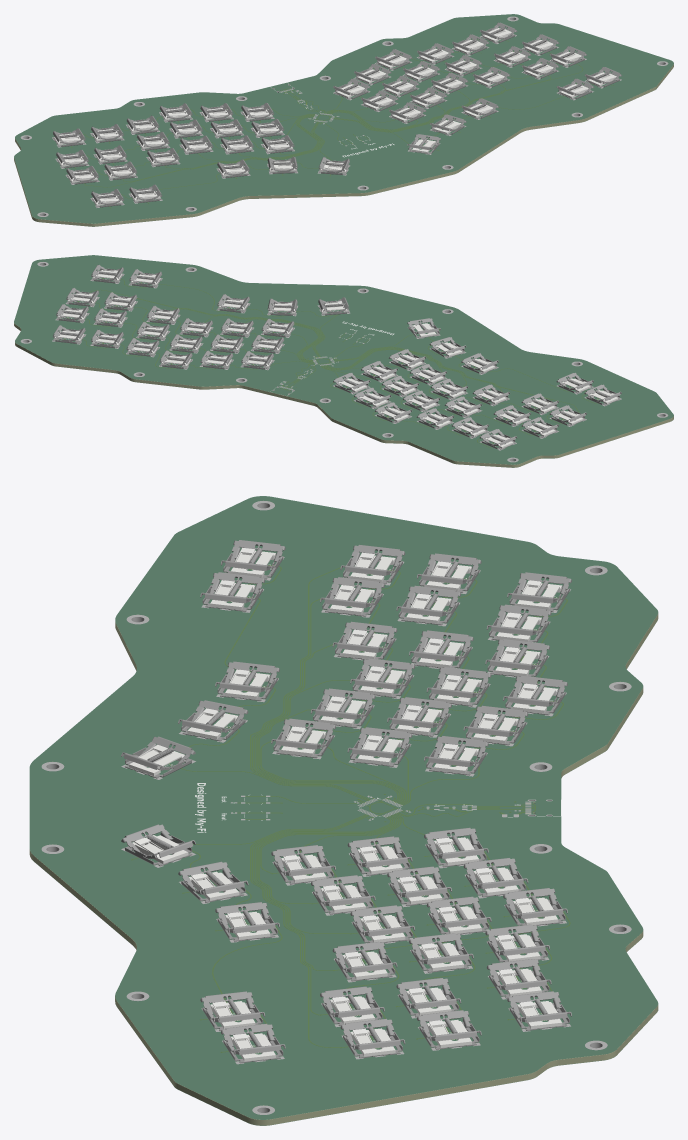
The picture shows the model from 3 angles, top to bottom: view 1: azimuth 30°, elevation 25°; view 2: azimuth 150°, elevation 25°; view 3: azimuth 270°, elevation 25°; orthographic projection. The views are drawn at different scales.
Parts seen in each view (by area): view 1: =>[0:1:1:14], =>[0:1:1:16], =>[0:1:1:11]; view 2: =>[0:1:1:14], =>[0:1:1:16], =>[0:1:1:11]; view 3: =>[0:1:1:14], =>[0:1:1:16], =>[0:1:1:11], =>[0:1:1:10].
Boxes of the visible parts, box(x1,y1,x2,y2) form: =>[0:1:1:14]: box(14, 14, 673, 223); =>[0:1:1:16]: box(14, 15, 673, 226); =>[0:1:1:11]: box(20, 16, 668, 216); =>[0:1:1:14]: box(14, 255, 673, 464); =>[0:1:1:16]: box(14, 256, 673, 467); =>[0:1:1:11]: box(20, 262, 668, 462); =>[0:1:1:14]: box(29, 496, 658, 1119); =>[0:1:1:16]: box(29, 497, 658, 1125); =>[0:1:1:11]: box(41, 501, 631, 1114); =>[0:1:1:10]: box(190, 566, 569, 1044).
Bounding box in the file's own units: 0.3557 × 0.00517 × 0.1515.
